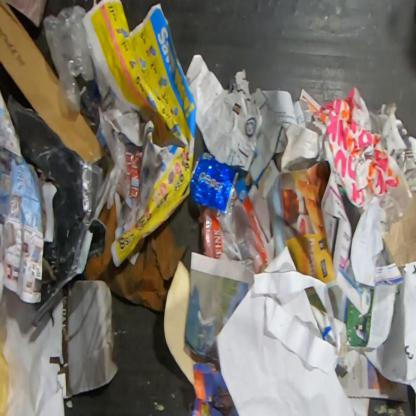cardboard: (0, 0, 105, 164), (83, 198, 187, 313)
metal: (190, 151, 240, 214)
rigid_plastic: (0, 292, 8, 328)
soft_plastic: (44, 4, 95, 114), (202, 198, 269, 272)
